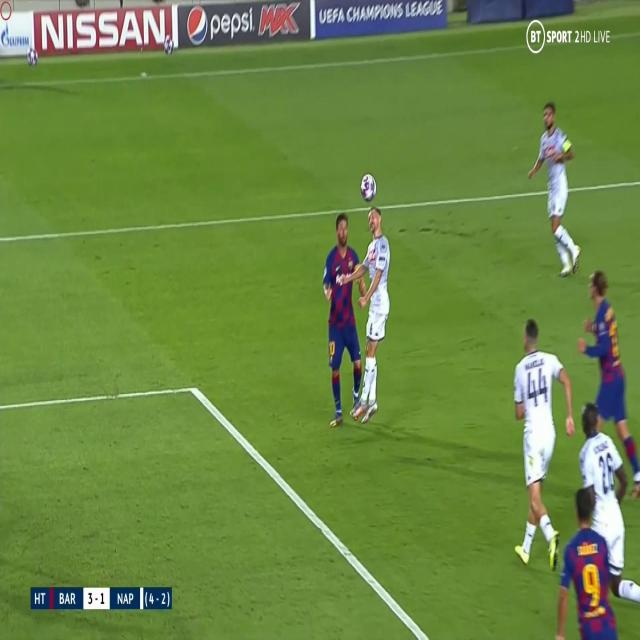ball: (356, 168, 380, 203)
player: (556, 403, 640, 636), (504, 312, 575, 566), (572, 258, 636, 485), (316, 201, 367, 430), (351, 194, 400, 424), (525, 98, 584, 278), (549, 487, 621, 634)
